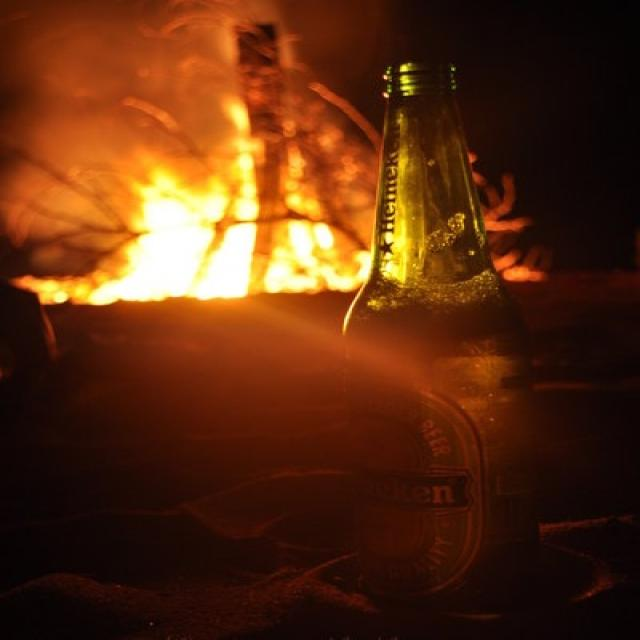Bottle: (343, 44, 592, 595)
